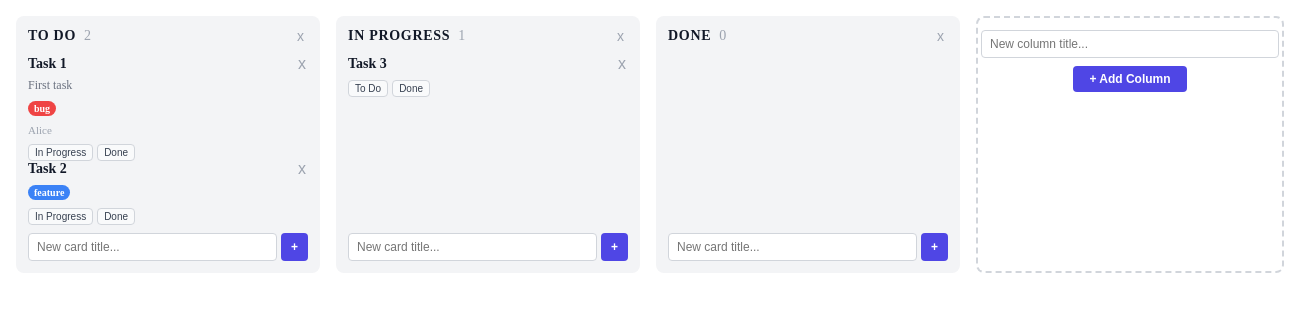
Test: KanbanBoard › adds a card on Enter key press
This screenshot has width=1301, height=331.
In the field named "New card title for To Do": (152, 247) x1=28 y1=233 x2=277 y2=261, type "Enter Card"
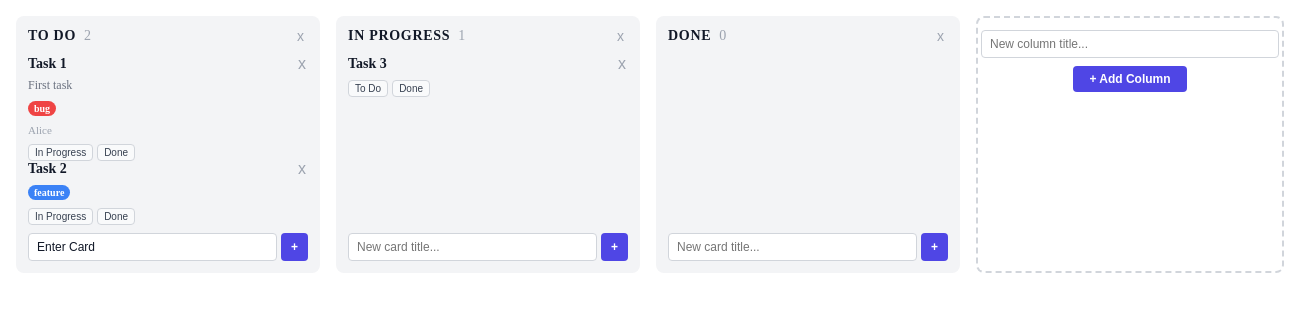
Press Enter in the field named "New card title for To Do", box x1=28 y1=233 x2=277 y2=261
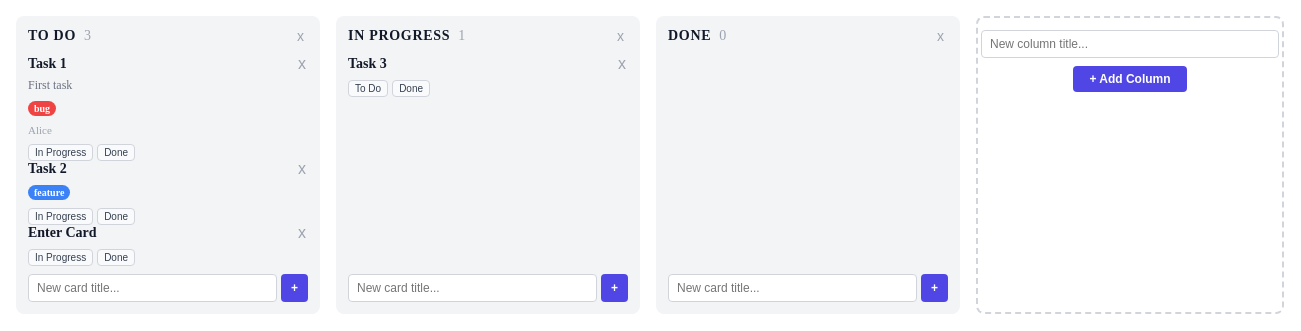
Result: the heading "Enter Card" is shown at x1=28 y1=225 x2=97 y2=241
